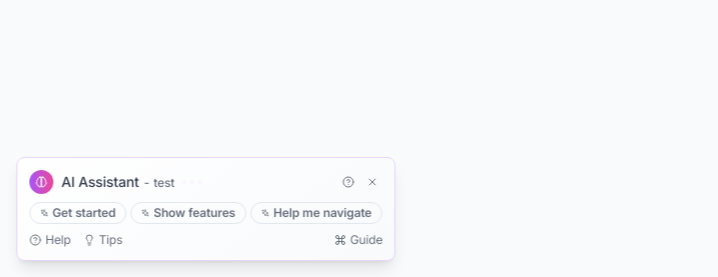
Test: AIContextToolbar › should close panel when close button is clicked
Click the button titled "Expand". click: (349, 182)
box: [339, 172, 359, 192]
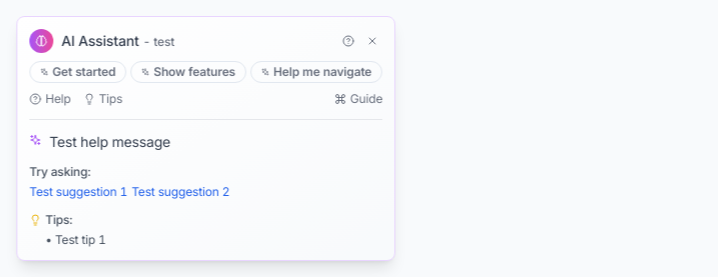
Check: the text "Test help message" is shown, box [49, 132, 170, 152]
Click the button titled "Hide assistant". click: (373, 41)
box: [363, 31, 383, 51]
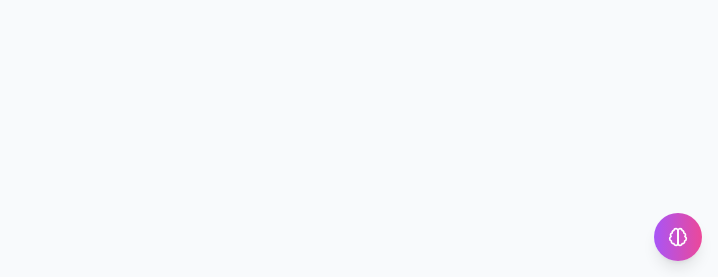
Check: the text "Test help message" is gone
